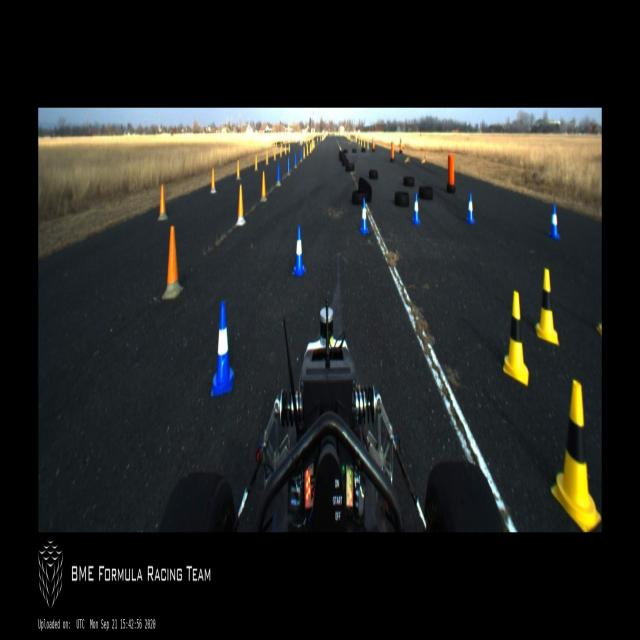blue_cone: (211, 301, 234, 395), (292, 225, 306, 276), (549, 204, 560, 238), (359, 199, 369, 233), (466, 192, 475, 226), (412, 192, 421, 224)
unknown_cone: (163, 225, 183, 300), (235, 184, 246, 226), (158, 184, 168, 221), (260, 171, 267, 203), (210, 168, 217, 194), (277, 162, 281, 186), (236, 158, 240, 180), (286, 157, 290, 176), (294, 152, 297, 168), (255, 155, 258, 170), (266, 150, 269, 164), (303, 146, 306, 159), (300, 148, 302, 162), (274, 149, 276, 160), (280, 148, 282, 157)
yellow_cone: (551, 381, 601, 531), (504, 292, 529, 386), (536, 268, 560, 344)
